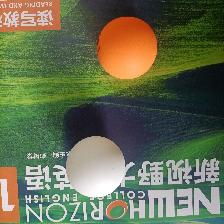WhiteBall: (64, 135, 125, 198)
YellowBall: (96, 15, 157, 79)
